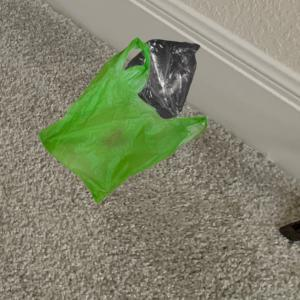plastic_bag: (36, 38, 210, 207)
